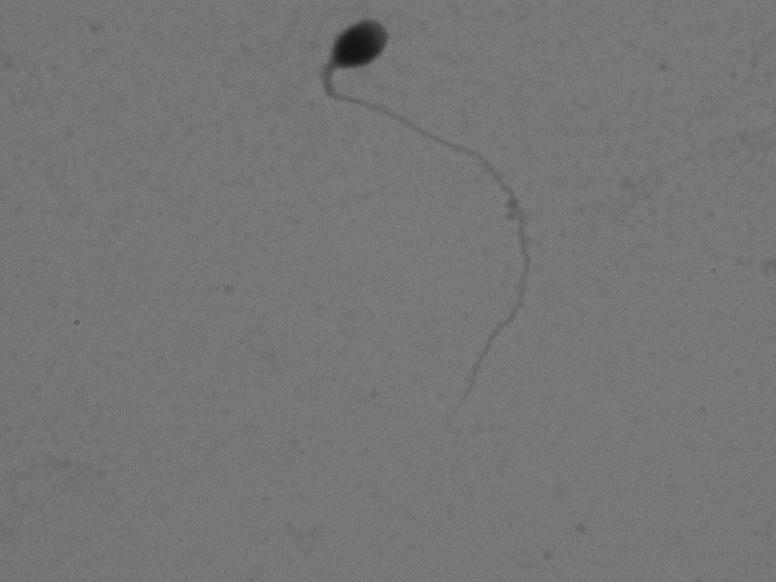Normal: (228, 11, 575, 425)
